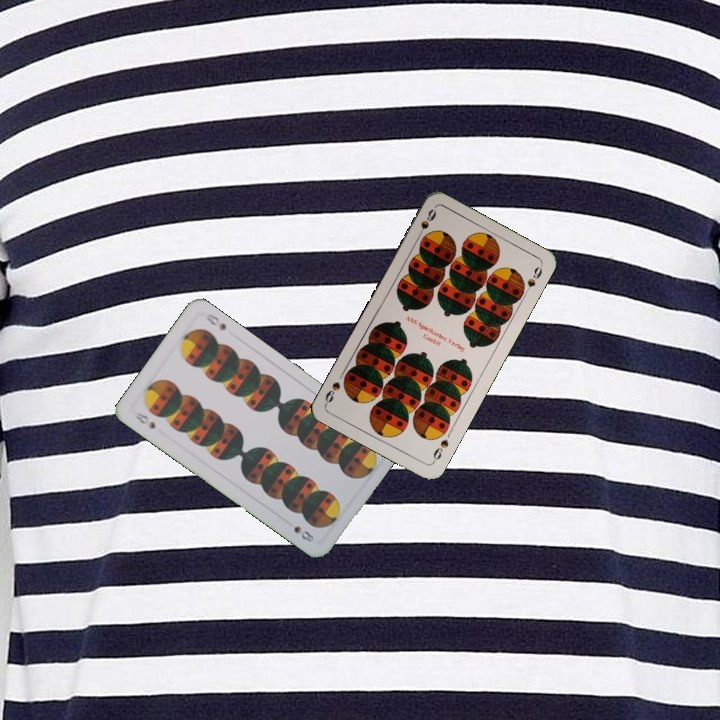S8: (130, 409, 158, 432)
S9: (413, 205, 439, 242), (429, 435, 451, 466)
